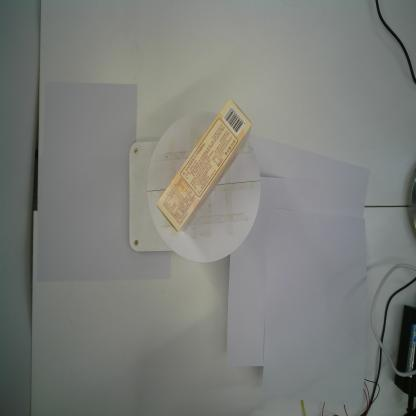Dessert: (155, 97, 252, 235)
